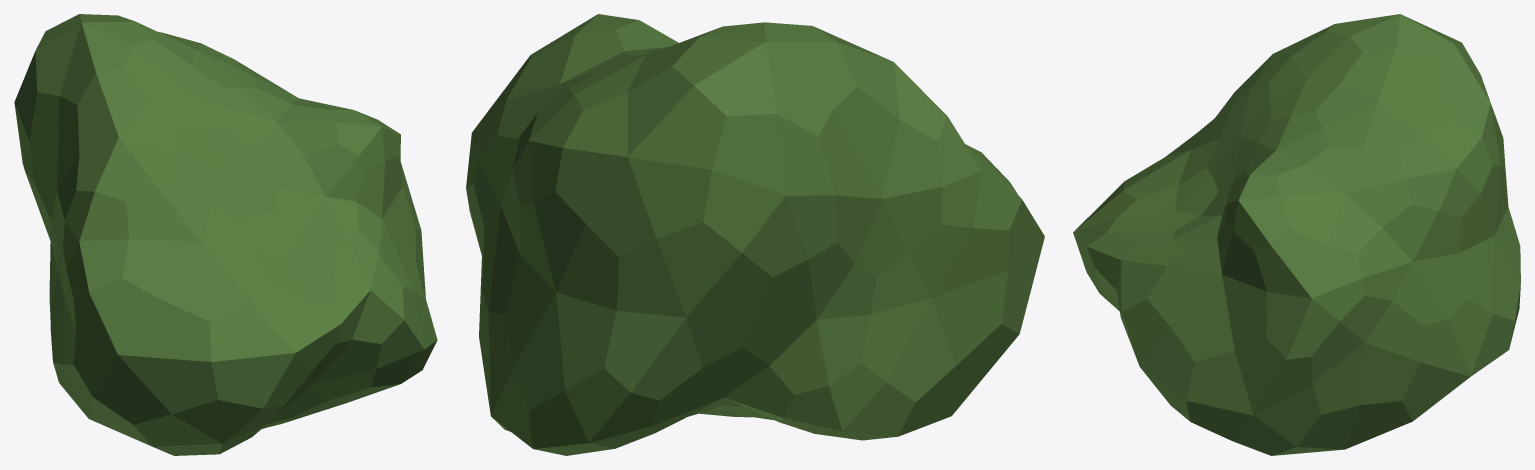
The model's file is bush3.fbx.
3 renders of one model, left to right at view 1: azimuth 30°, elevation 25°; view 2: azimuth 150°, elevation 25°; view 3: azimuth 270°, elevation 25°, orthographic. The views are drawn at different scales.
Parts seen in each view (by area): view 1: Icosphere.008; view 2: Icosphere.008; view 3: Icosphere.008.
Boxes of the visible parts, <box> form: Icosphere.008: <box>14,14,437,455</box>; Icosphere.008: <box>466,14,1044,455</box>; Icosphere.008: <box>1073,14,1520,455</box>.
Bounding box in the file's own units: 110 × 103 × 120.
